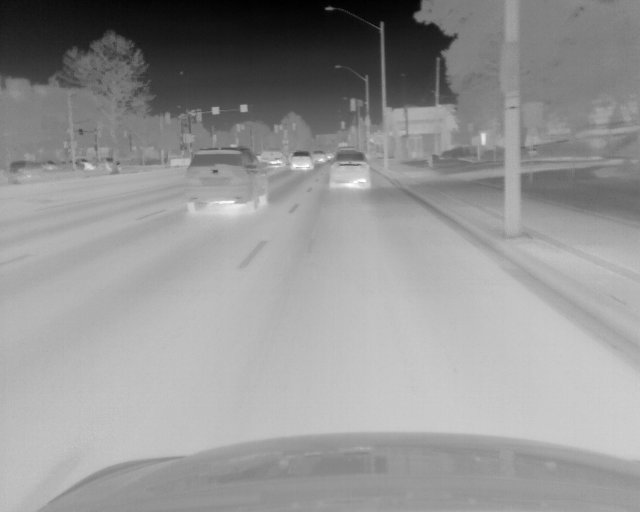car: (184, 147, 270, 216), (329, 149, 370, 191), (262, 149, 287, 169), (289, 151, 313, 171), (312, 149, 328, 165)
